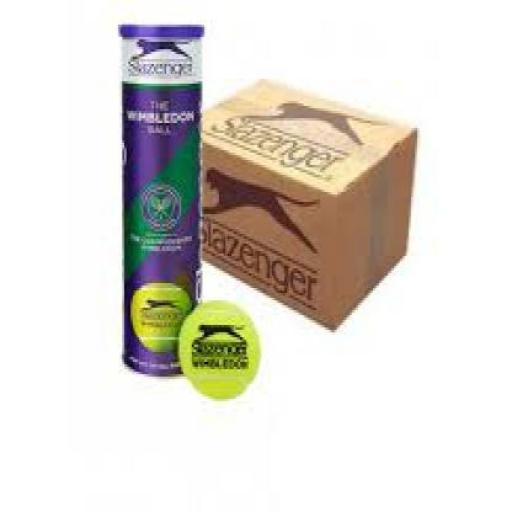cardboard: (198, 74, 416, 325)
plastic: (118, 27, 198, 374), (116, 17, 202, 37)
